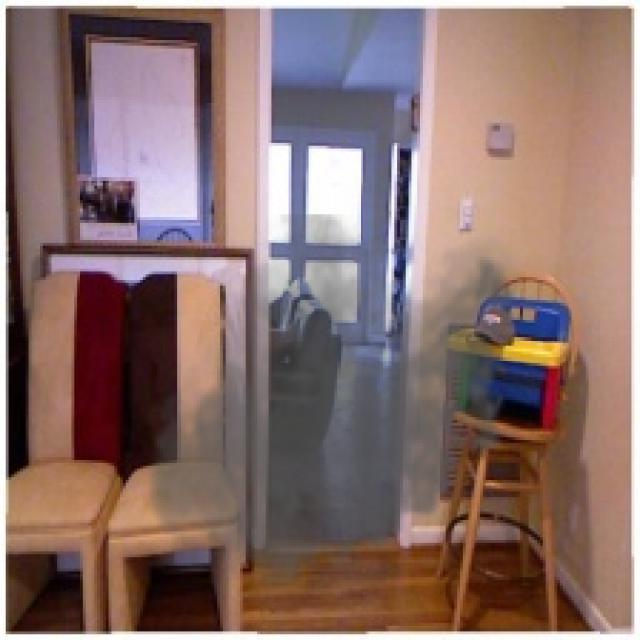Smoke: (140, 214, 529, 606)
